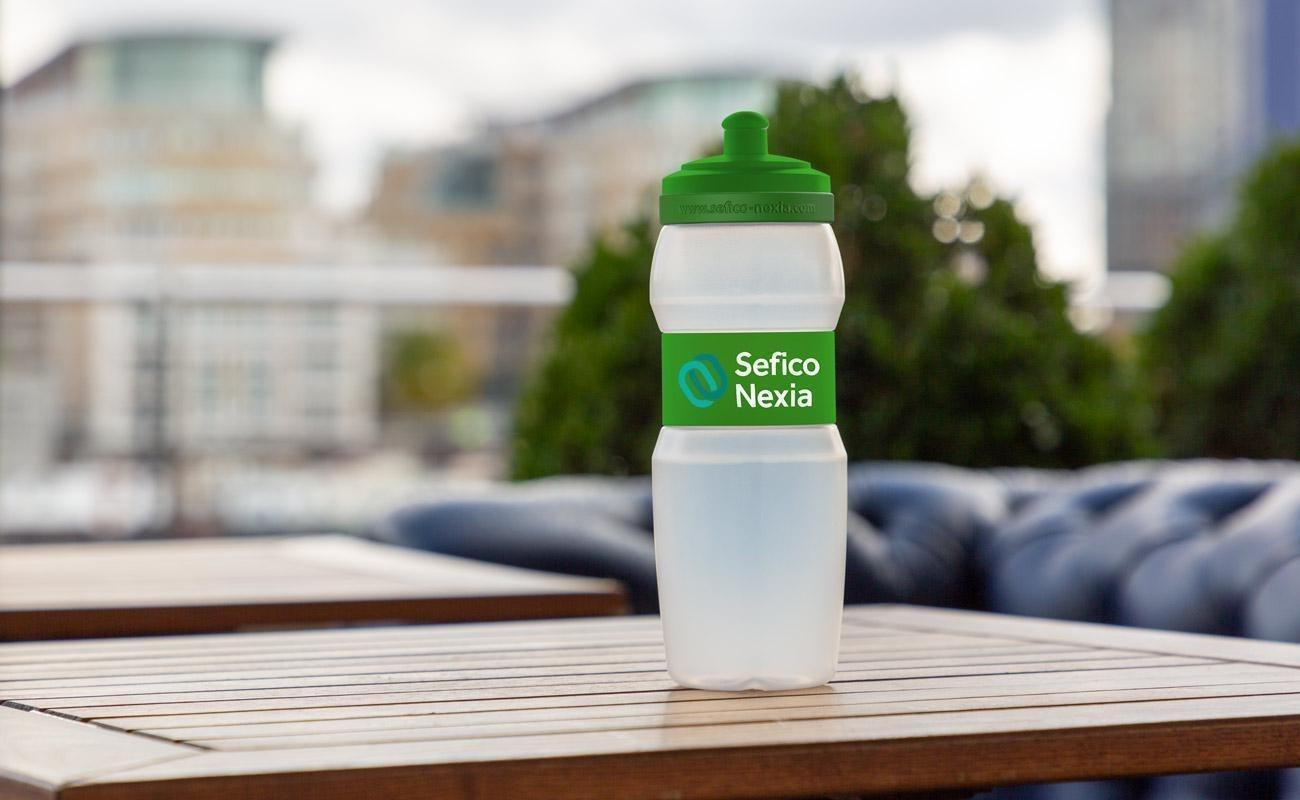gym bottle: (641, 112, 857, 693)
